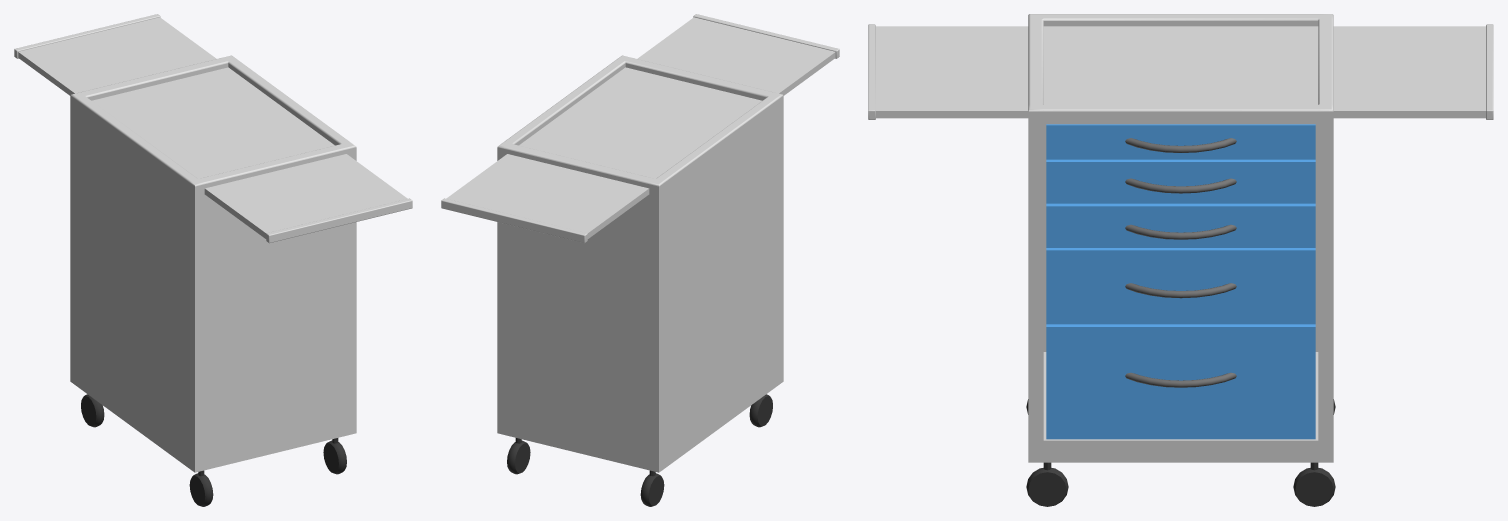
The model's file is KastjeOpWielen.fbx.
The picture shows the model from 3 angles, left to right: view 1: azimuth 30°, elevation 25°; view 2: azimuth 150°, elevation 25°; view 3: azimuth 270°, elevation 25°; orthographic projection. The views are drawn at different scales.
Parts seen in each view (by area): view 1: Basecart, Wiel_4, Wiel_3, Wiel_2; view 2: Basecart, Wiel, Wiel_2, Wiel_3; view 3: Basecart, Schuif5, Schuif4, Schuif3, Schuif2, Schuif1, Wiel, Wiel_4, Handvat3, Handvat5, Handvat1, Handvat2 (+1 smaller).
Part boxes in pixels (bbox=[...]): Basecart: bbox=[14, 14, 412, 472]; Wiel_4: bbox=[323, 440, 346, 474]; Wiel_3: bbox=[189, 473, 213, 506]; Wiel_2: bbox=[81, 394, 104, 427]; Basecart: bbox=[441, 14, 839, 472]; Wiel: bbox=[507, 440, 530, 474]; Wiel_2: bbox=[640, 473, 664, 506]; Wiel_3: bbox=[749, 394, 772, 427]; Basecart: bbox=[868, 14, 1493, 462]; Schuif5: bbox=[1046, 324, 1315, 439]; Schuif4: bbox=[1046, 248, 1315, 324]; Schuif3: bbox=[1046, 203, 1315, 247]; Schuif2: bbox=[1046, 159, 1315, 203]; Schuif1: bbox=[1046, 124, 1315, 159]; Wiel: bbox=[1293, 468, 1335, 506]; Wiel_4: bbox=[1026, 468, 1068, 506]; Handvat3: bbox=[1125, 224, 1236, 239]; Handvat5: bbox=[1125, 372, 1236, 387]; Handvat1: bbox=[1125, 138, 1236, 152]; Handvat2: bbox=[1125, 178, 1236, 193].
Bounding box in the file's own units: 65.91 × 117 × 164.
